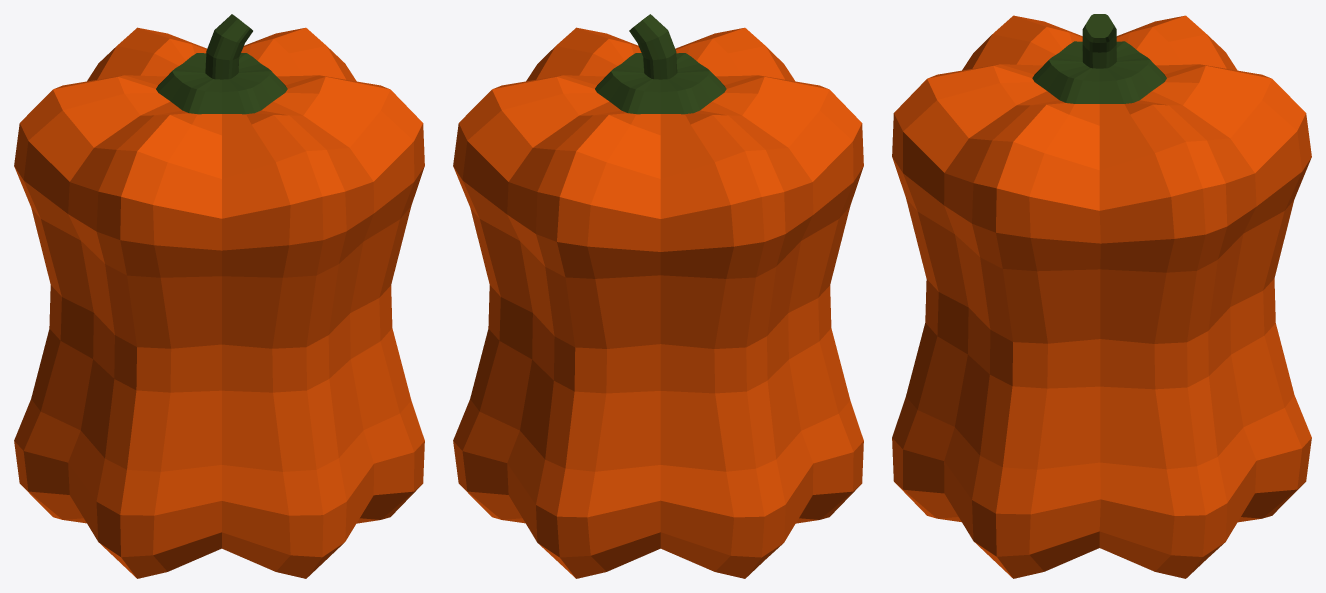
File: bell_pepper_red.glb
3 renders of one model, left to right at view 1: azimuth 30°, elevation 25°; view 2: azimuth 150°, elevation 25°; view 3: azimuth 270°, elevation 25°, orthographic. The views are drawn at different scales.
Parts seen in each view (by area): view 1: bell_pepper_red; view 2: bell_pepper_red; view 3: bell_pepper_red.
Boxes of the visible parts, <box> form: bell_pepper_red: <box>14,14,424,578</box>; bell_pepper_red: <box>453,14,863,578</box>; bell_pepper_red: <box>892,14,1311,578</box>.
Size of the model in its own units: 0.8257 by 1.24 by 0.9104.
Materials: 1 (1 with a texture image).
